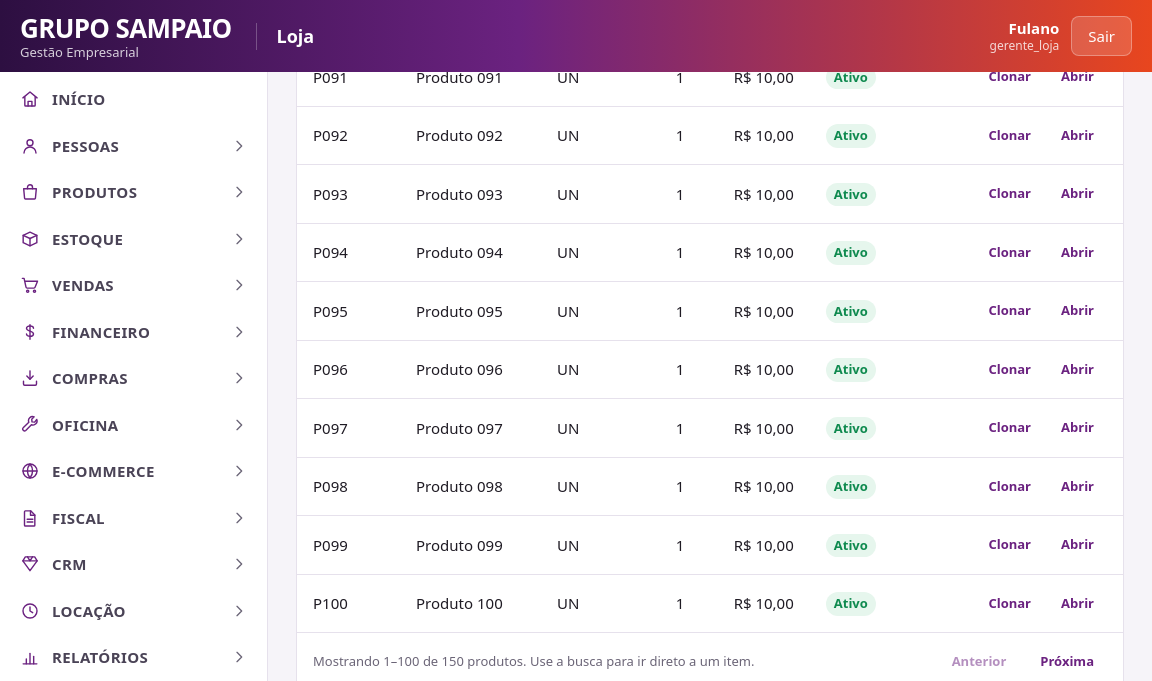
Test case: Produtos: a página se declara e anda › "Mostrando 1–100 de 150", e a próxima traz o 101º
The width and height of the screenshot is (1152, 681).
(page scrolled)
Check: the text "Mostrando 1–100 de 150 produtos" is shown, box [313,652,526,670]
Check: the text "Produto 101" is not shown
Click the button "Próxima": click(1067, 662) [1027,645,1107,678]
(page scrolled)
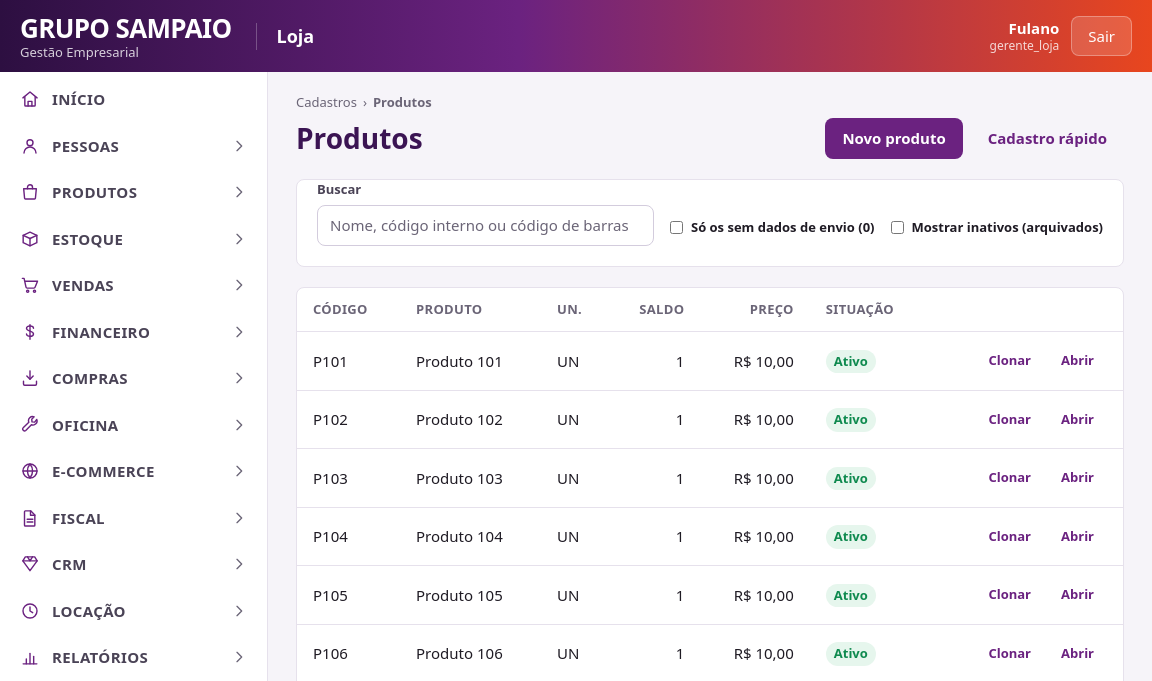
Check: the text "Produto 101" is shown, box [400,332,541,390]
